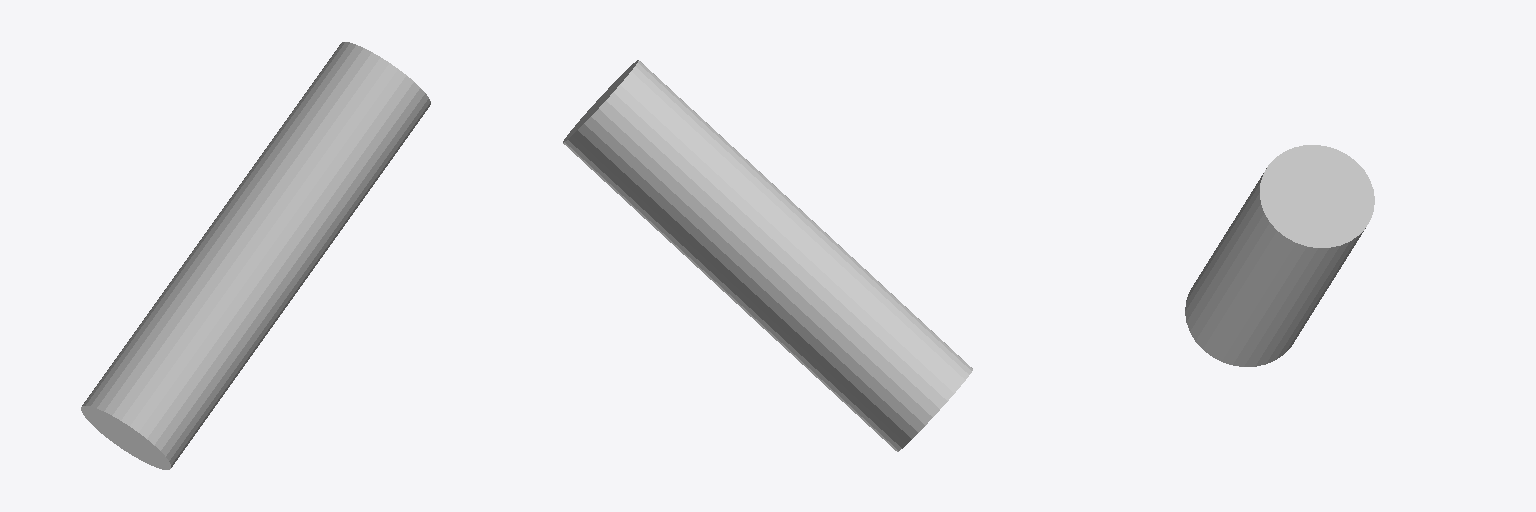
File: mesh_upperleg_l3.obj
3 renders of one model, left to right at view 1: azimuth 30°, elevation 25°; view 2: azimuth 150°, elevation 25°; view 3: azimuth 270°, elevation 25°, orthographic.
Visible parts, largest first — view 1: Cylinder.012_Cylinder.022; view 2: Cylinder.012_Cylinder.022; view 3: Cylinder.012_Cylinder.022.
Part boxes in pixels (left/top/right/bottom): Cylinder.012_Cylinder.022: left=81, top=42, right=430, bottom=469; Cylinder.012_Cylinder.022: left=563, top=60, right=972, bottom=451; Cylinder.012_Cylinder.022: left=1185, top=145, right=1374, bottom=366.
Bounding box in the file's own units: 0.7749 × 0.7015 × 0.356.